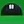black: (0, 0, 24, 24)
